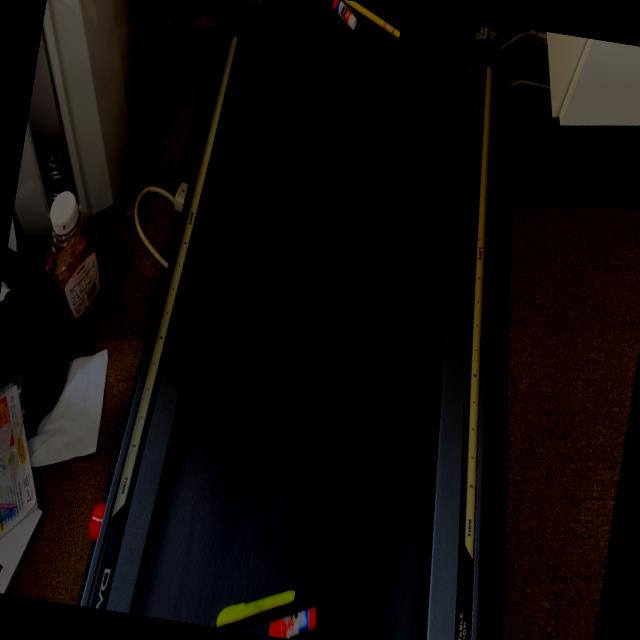Trash: (197, 528, 350, 640), (320, 0, 411, 45)
